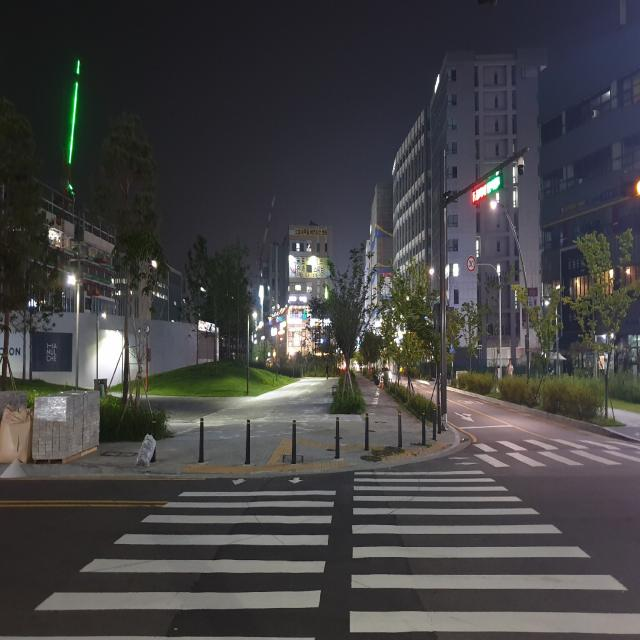횡단보도: (33, 464, 639, 638), (457, 419, 640, 469)
